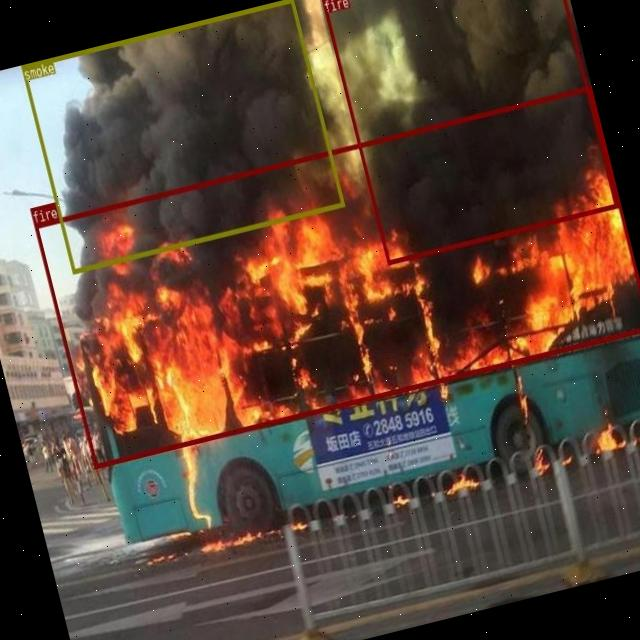fire: (33, 85, 640, 467), (320, 0, 616, 264)
smoke: (20, 0, 344, 273)
